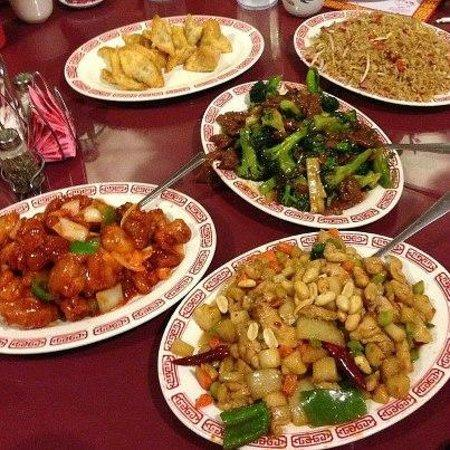Braised Crucian Carp: (156, 230, 450, 450), (0, 181, 215, 354), (199, 78, 404, 227), (62, 14, 257, 102), (292, 8, 449, 107)
